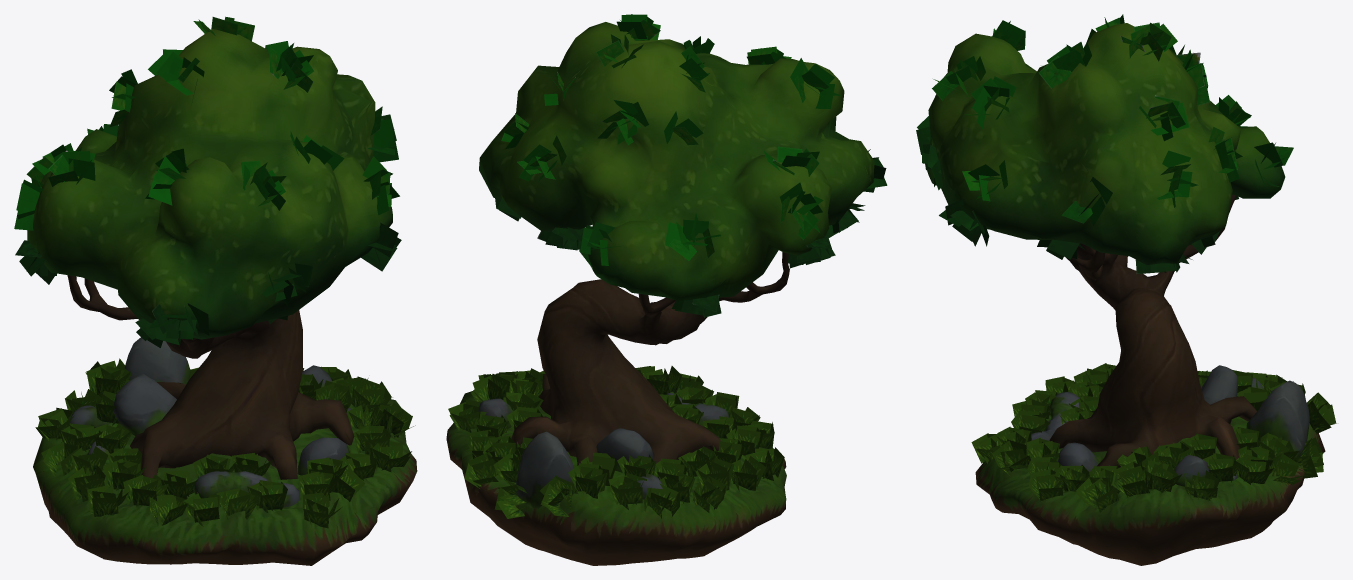
Rendered from ntree-transformed.glb.
3 renders of one model, left to right at view 1: azimuth 30°, elevation 25°; view 2: azimuth 150°, elevation 25°; view 3: azimuth 270°, elevation 25°, orthographic. The views are drawn at different scales.
Parts seen in each view (by area): view 1: Tree; view 2: Tree; view 3: Tree.
Part boxes in pixels (x1=…): Tree: x1=14, y1=16, x2=417, y2=565; Tree: x1=446, y1=14, x2=887, y2=565; Tree: x1=916, y1=14, x2=1336, y2=565.
Bounding box in the file's own units: 178 × 230 × 177.
Materials: 5 (5 with a texture image).
